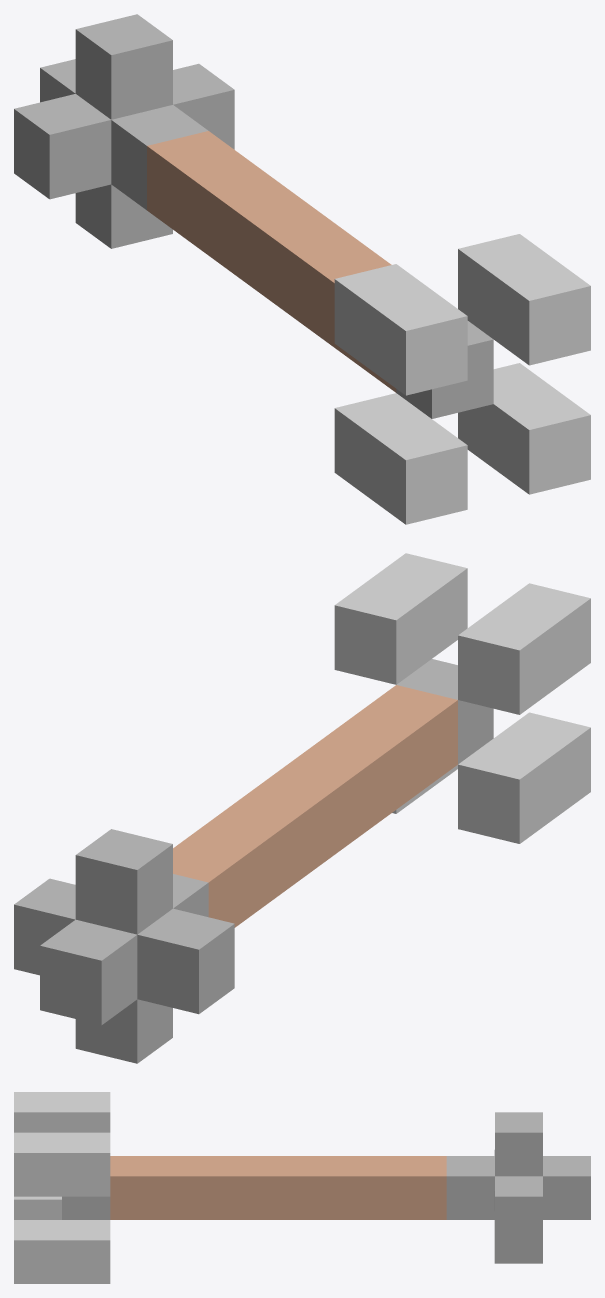
Rendered from Arrow.fbx.
The picture shows the model from 3 angles, top to bottom: view 1: azimuth 30°, elevation 25°; view 2: azimuth 150°, elevation 25°; view 3: azimuth 270°, elevation 25°; orthographic projection. The views are drawn at different scales.
Parts seen in each view (by area): view 1: arrow; view 2: arrow; view 3: arrow.
Part boxes in pixels (x1=…): arrow: x1=14, y1=14, x2=590, y2=524; arrow: x1=14, y1=553, x2=590, y2=1063; arrow: x1=14, y1=1092, x2=590, y2=1283.
Bounding box in the file's own units: 30 × 30 × 120.
